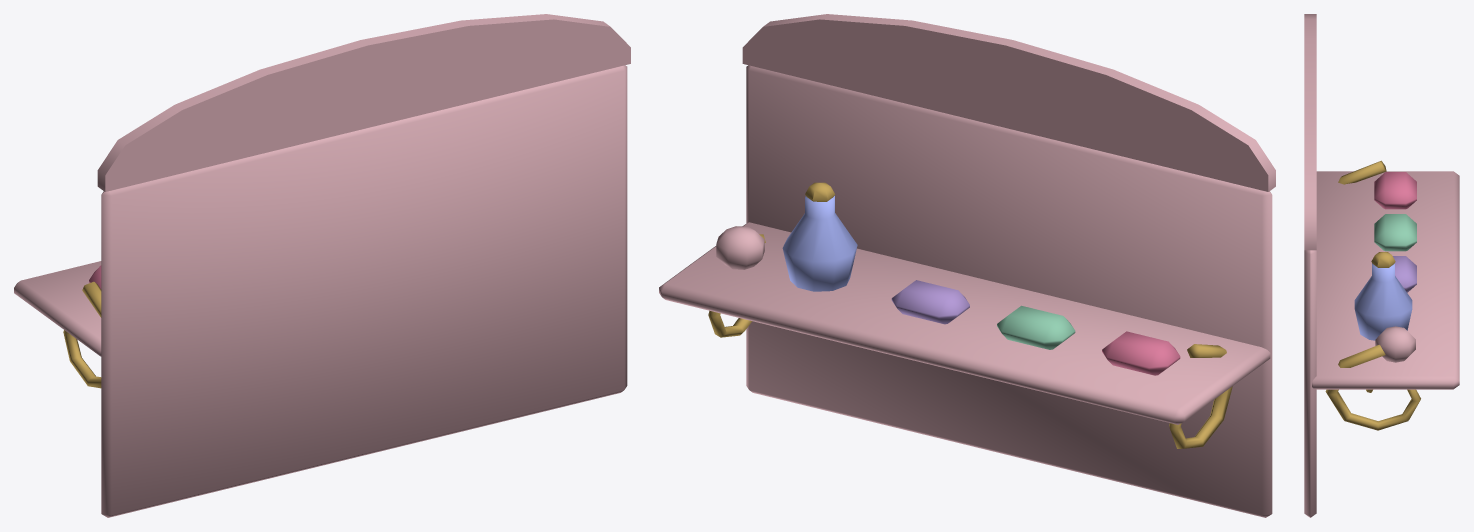
File: soap_shelf.glb
3 views of the same model, side by side, from view 1: azimuth 30°, elevation 25°; view 2: azimuth 150°, elevation 25°; view 3: azimuth 270°, elevation 25° (orthographic). The views are drawn at different scales.
Parts seen in each view (by area): view 1: soap_shelf; view 2: soap_shelf; view 3: soap_shelf.
Boxes of the visible parts, left/top/right/bottom form: soap_shelf: left=14, top=14, right=630, bottom=517; soap_shelf: left=659, top=14, right=1275, bottom=517; soap_shelf: left=1304, top=14, right=1459, bottom=517.
Size of what is drawn, in the model's own units: 0.8 by 0.6 by 0.25.
